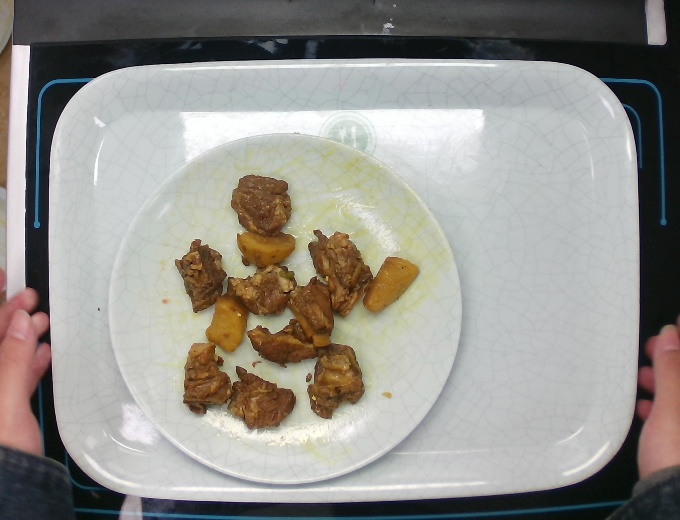JYsf-Da_Yuan_Pan: (109, 129, 479, 492)
